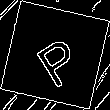P_NW: (26, 24, 84, 86)
